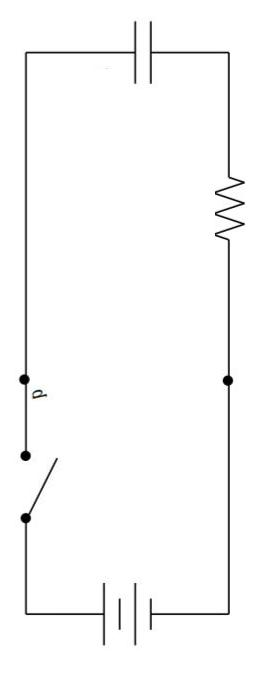resistor: (184, 149, 248, 267)
